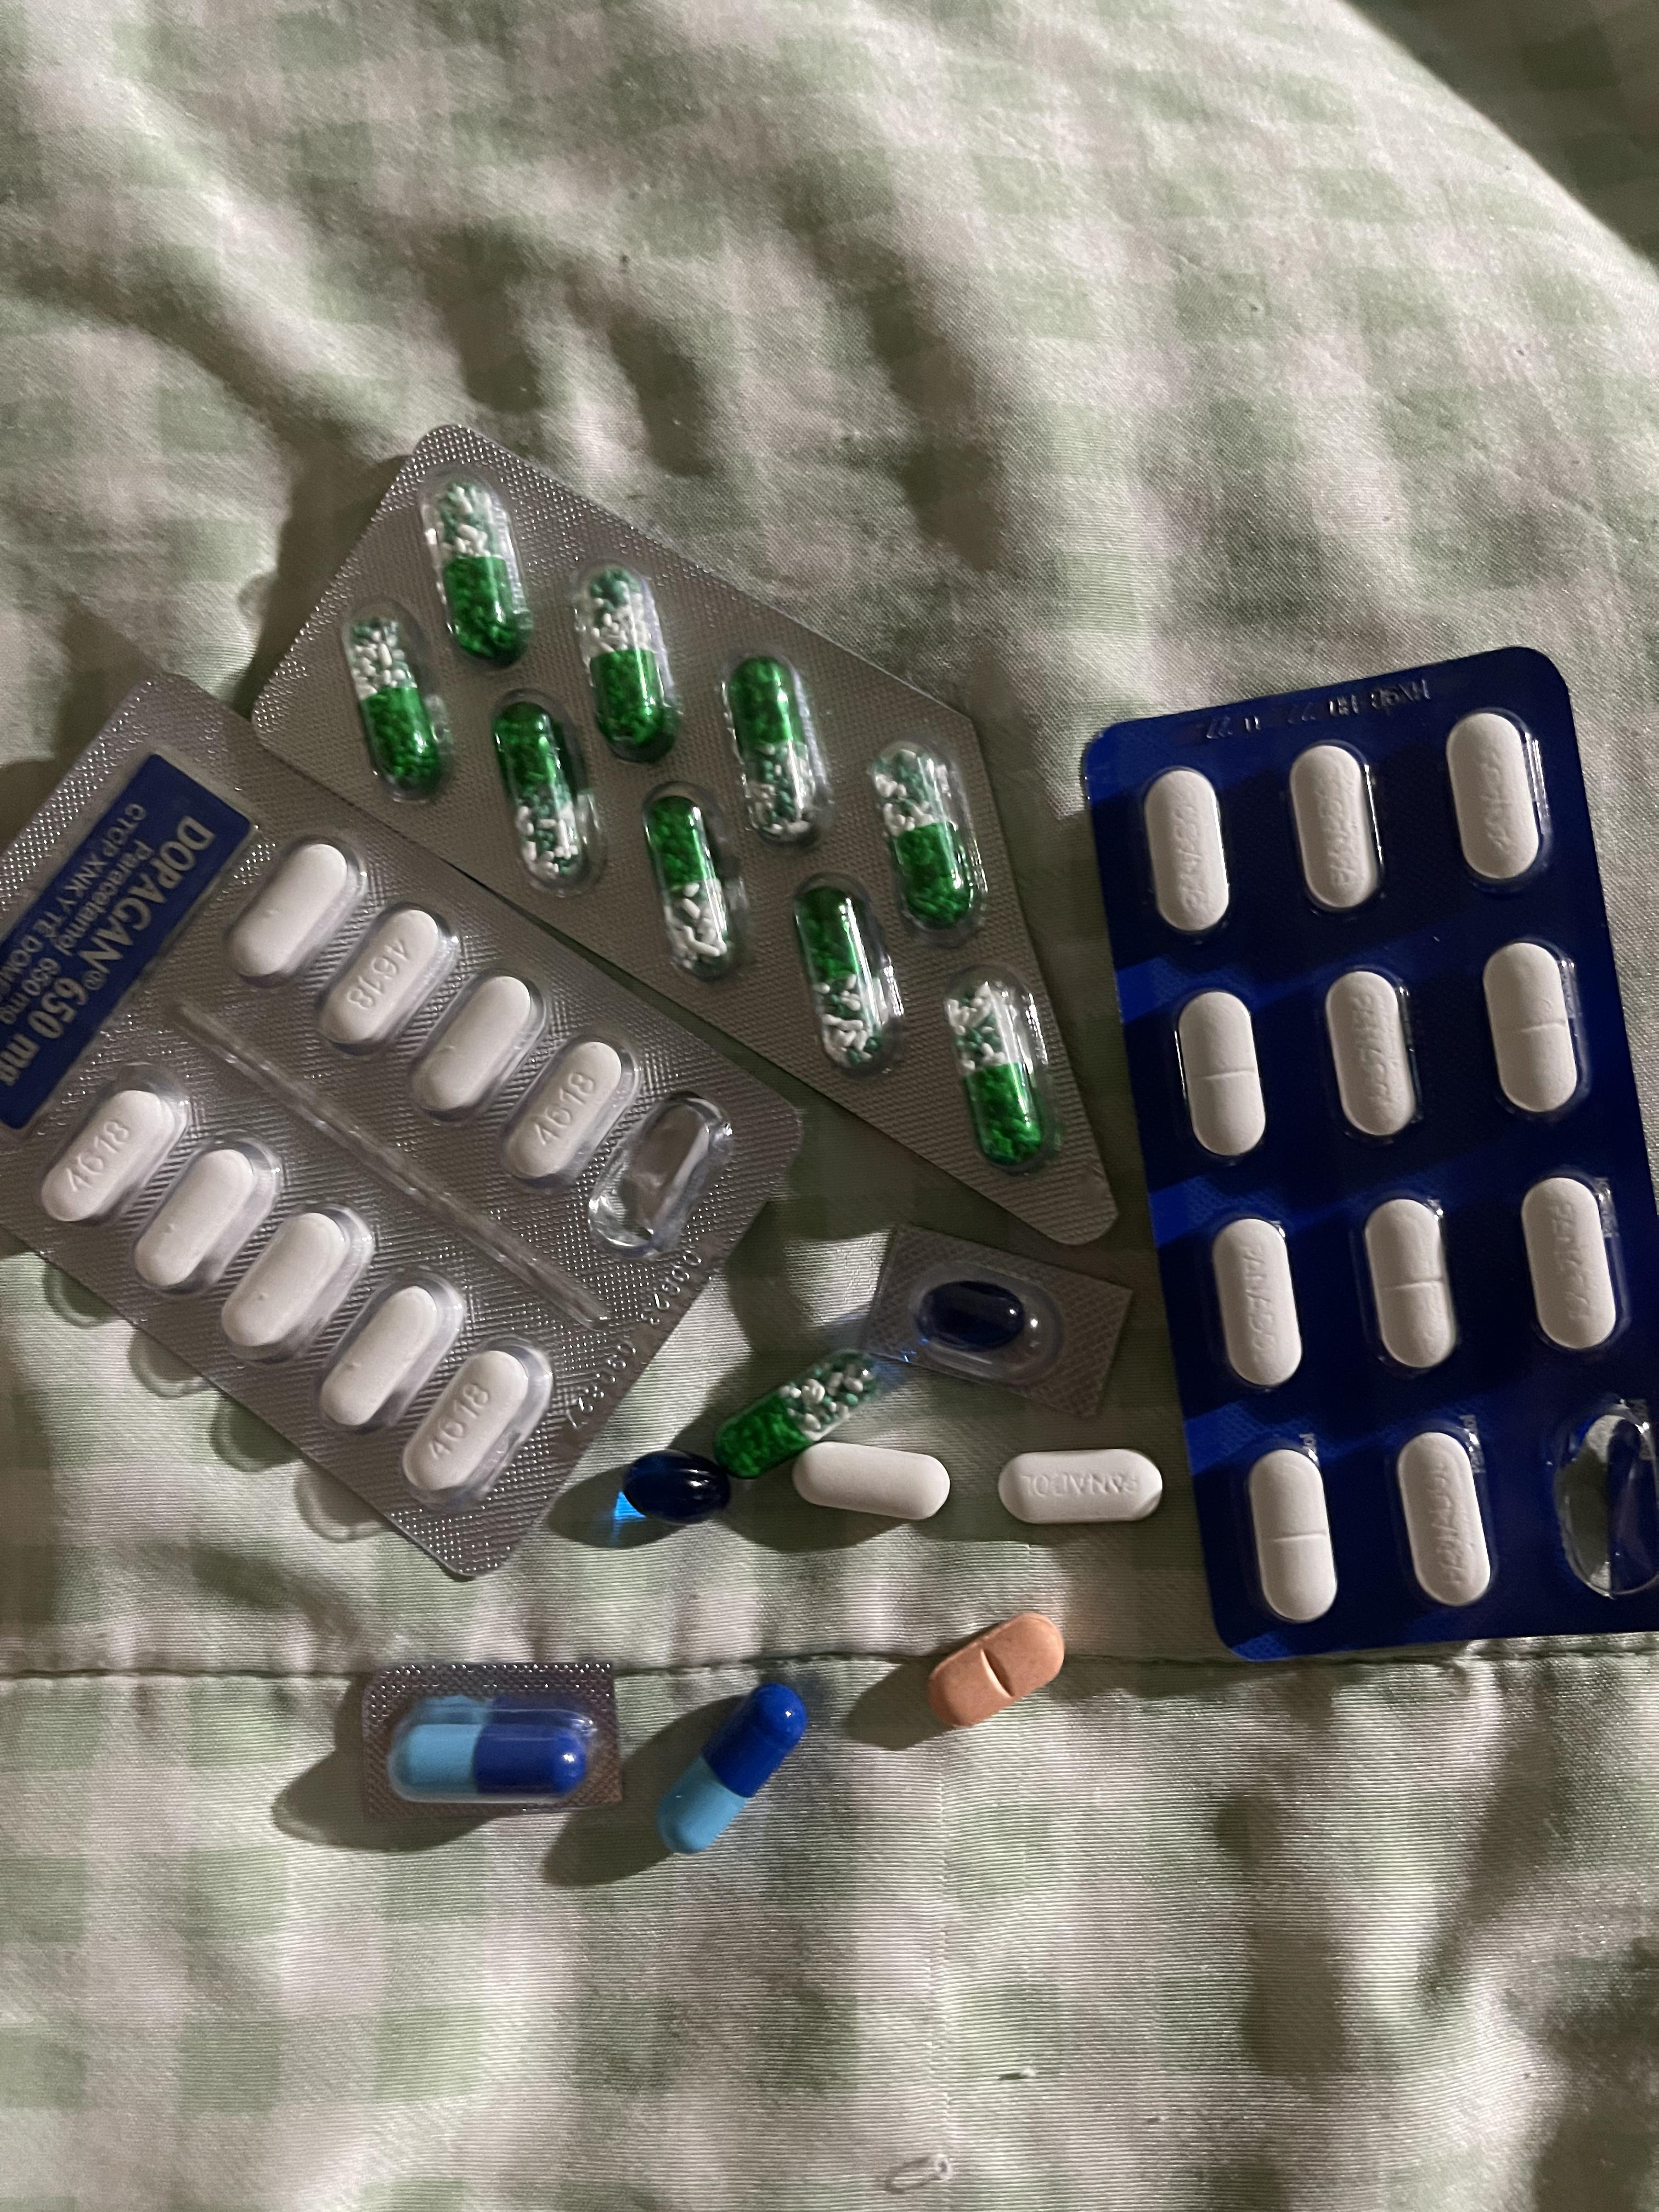Lincomyxin_500mg: (619, 1451, 732, 1524), (922, 1278, 1030, 1352)
Loratadine_10mg: (927, 1609, 1065, 1724)
Paracetamol_350mg: (1520, 1177, 1626, 1357), (1356, 1197, 1460, 1376), (1485, 941, 1588, 1122), (1446, 711, 1547, 888), (1394, 1432, 1495, 1609), (1324, 968, 1424, 1144), (1211, 1219, 1305, 1395), (1290, 744, 1384, 916), (1246, 1447, 1337, 1623), (1175, 993, 1267, 1163), (1143, 768, 1232, 939), (999, 1446, 1162, 1524)
Paracetamol_500mg: (401, 1341, 551, 1505), (321, 1270, 464, 1433), (220, 1200, 368, 1357), (134, 1137, 275, 1292), (40, 1080, 185, 1228), (317, 902, 458, 1054), (497, 1029, 631, 1184), (227, 838, 361, 984), (410, 972, 540, 1120), (791, 1440, 953, 1519)
Paracetamol_650mg: (488, 691, 599, 890), (870, 740, 981, 935), (795, 876, 903, 1073), (713, 1353, 880, 1477), (946, 974, 1049, 1162), (579, 566, 676, 759), (727, 657, 826, 845), (432, 477, 528, 664), (643, 798, 737, 982), (347, 617, 444, 794)
pill: (655, 1681, 809, 1858), (396, 1705, 591, 1801)
